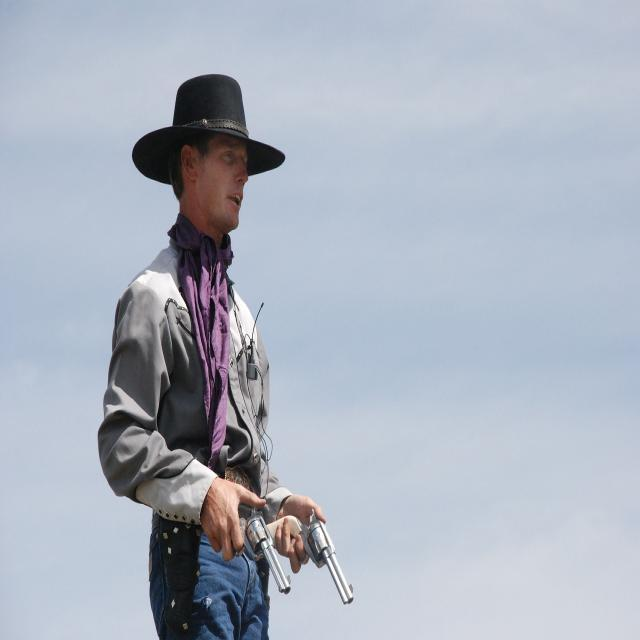Gun: (306, 515, 354, 603), (246, 512, 290, 593)
